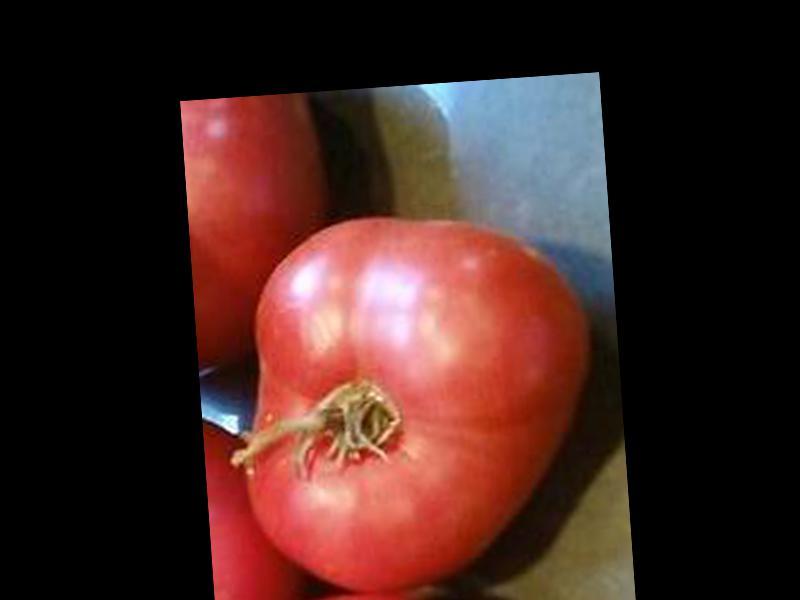Tomato: (229, 203, 603, 598)
